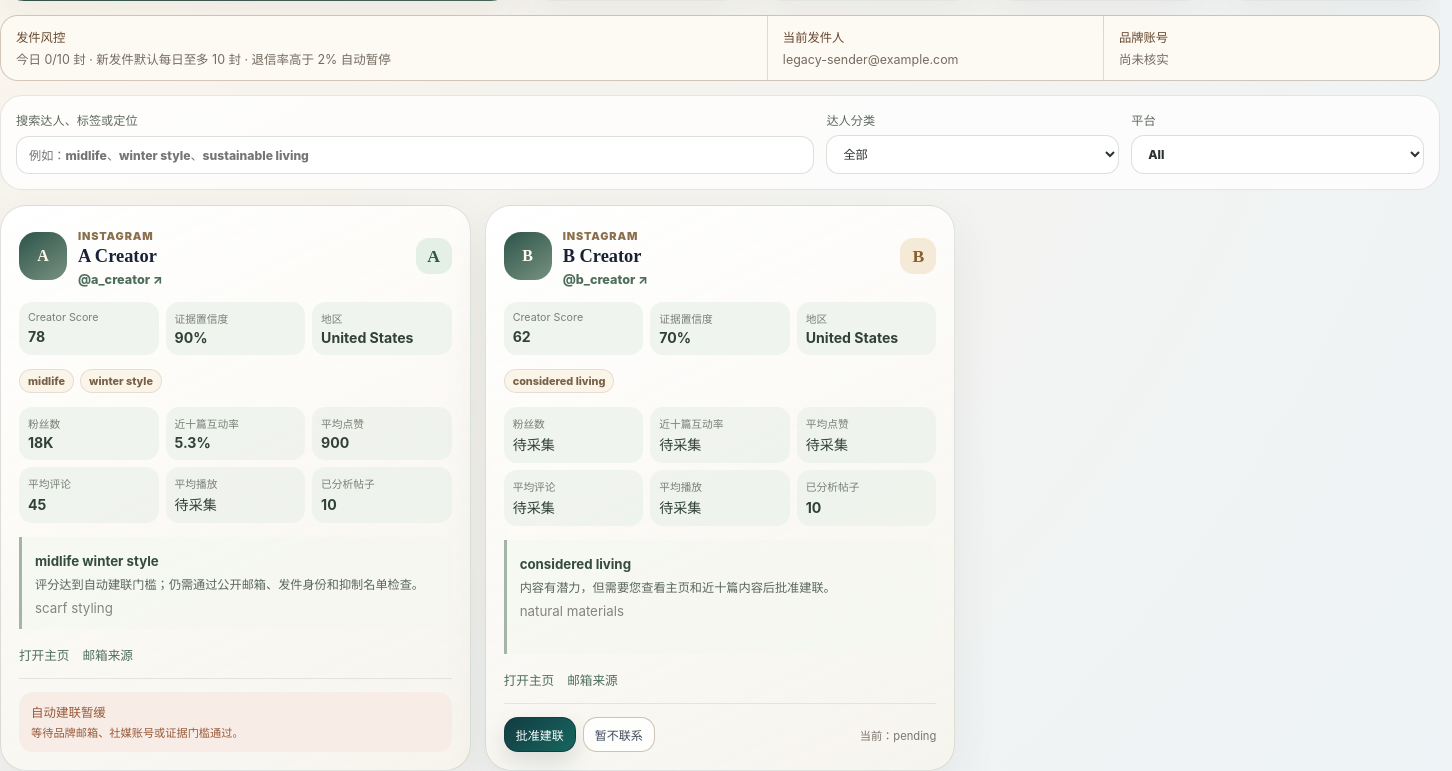
it: CreatorDiscoveryPage › persists B-class approval through the private local API
(page scrolled)
Click the button "批准建联": (540, 735) [504,718,576,752]
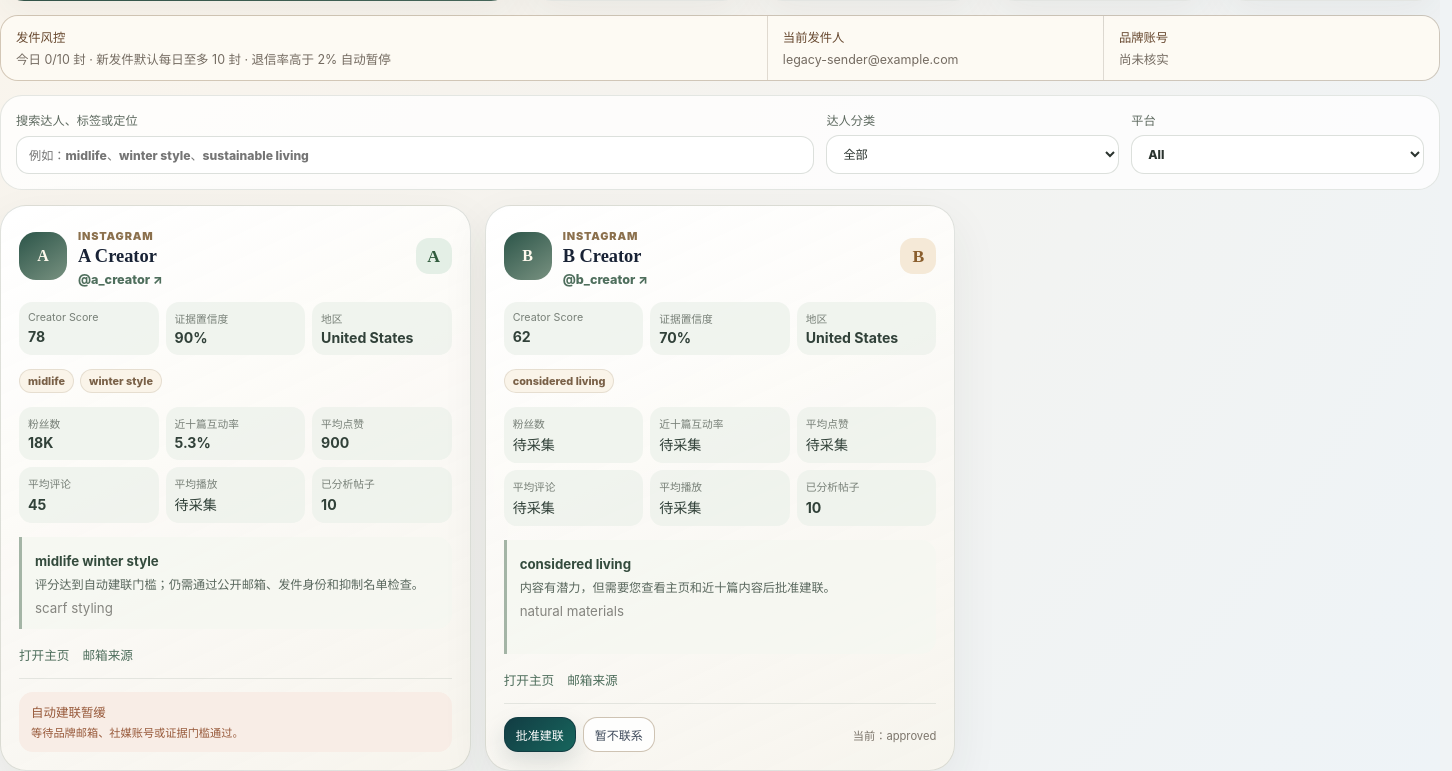
Result: the text "当前：approved" is shown at [853,727,936,743]
